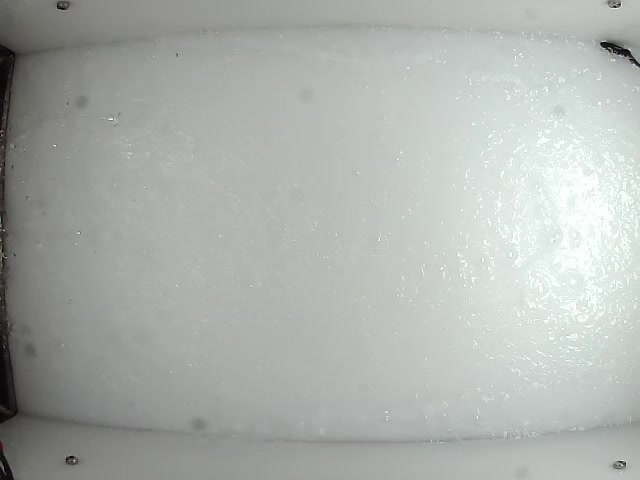fish: (598, 36, 640, 68)
